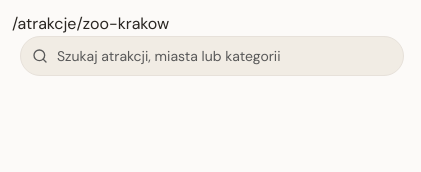
Test: HeaderSearch na karcie atrakcji (FMN-B54) › karta z kafla listy: Enter = „/” z frazą, wiekiem i województwem listy
Type "park" into the search field at (212, 56), box [20,36,404,76]
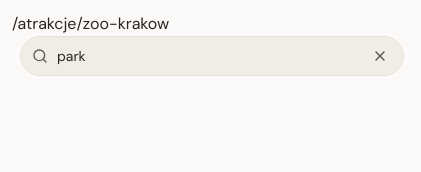
Submit the form named "searchbox", box [20,36,404,76]
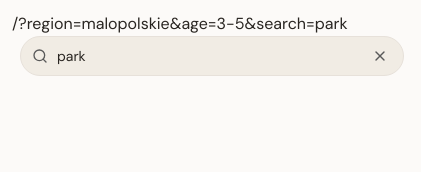
Result: the text with test id "adres" reads "/?region=malopolskie&age=3-5&search=park" at [12,13,348,34]
